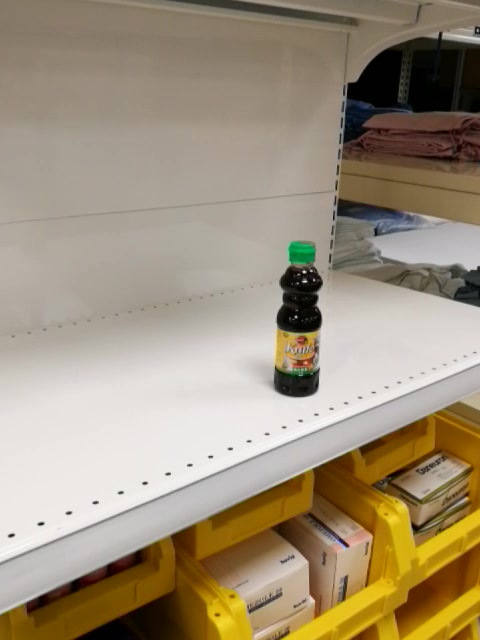cookingoil: (272, 240, 324, 401)
